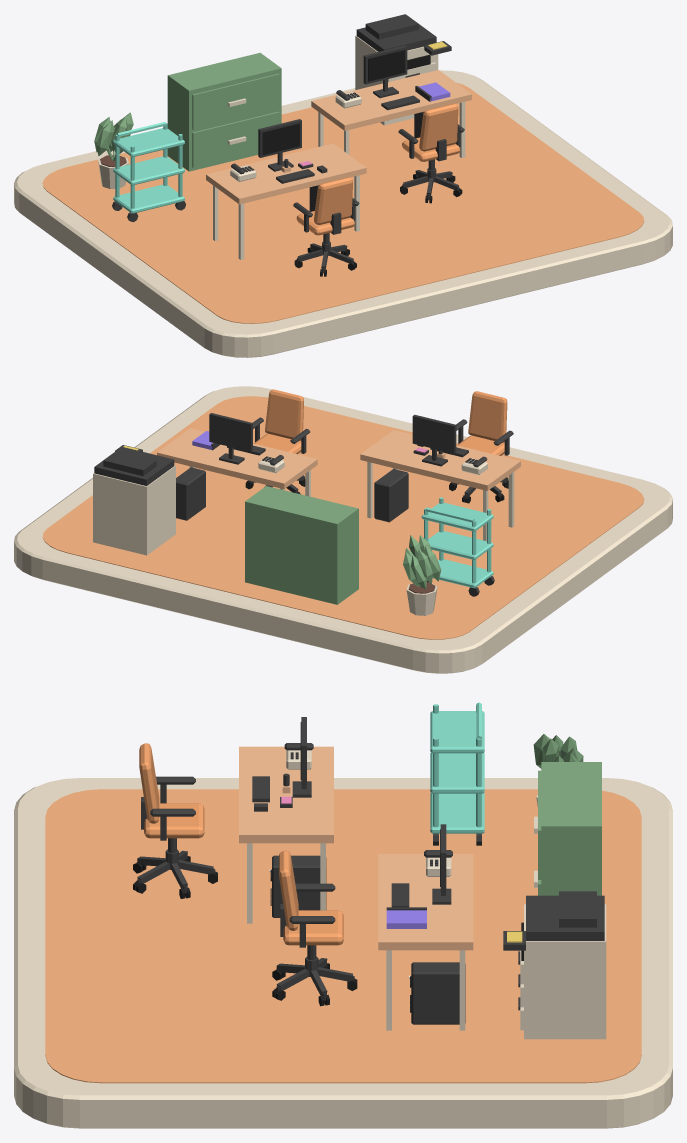
Rendered from room.fbx.
3 views of the same model, one above another, from view 1: azimuth 30°, elevation 25°; view 2: azimuth 150°, elevation 25°; view 3: azimuth 270°, elevation 25° (orthographic). The views are drawn at different scales.
Visible parts, largest first — view 1: COM-02 Floor Surface, COM-01 Rounded Base Direct, Cabinet, Top, Top.001, Body, COM-04_Chair_blender_direct.001, COM-04_Chair_blender_direct, Pot, Frame.001, Frame, Tray.002 (+2 smaller); view 2: COM-02 Floor Surface, COM-01 Rounded Base Direct, Cabinet, Body, Top, Top.001, COM-04_Chair_blender_direct, COM-04_Chair_blender_direct.001, Pot, Frame, Tower, Frame.001 (+4 smaller); view 3: COM-02 Floor Surface, COM-01 Rounded Base Direct, Body, Cabinet, Top, Top.001, COM-04_Chair_blender_direct.001, COM-04_Chair_blender_direct, Tower.001, Tray.002, Tray.001, Tray (+5 smaller).
Part boxes in pixels (x1,y1,x2,y2): COM-02 Floor Surface: [42, 83, 644, 323]; COM-01 Rounded Base Direct: [14, 70, 672, 357]; Cabinet: [167, 52, 281, 171]; Top: [206, 143, 366, 259]; Top.001: [311, 70, 471, 157]; Body: [355, 14, 451, 125]; COM-04_Chair_blender_direct.001: [398, 103, 464, 203]; COM-04_Chair_blender_direct: [293, 177, 359, 276]; Pot: [94, 112, 133, 188]; Frame.001: [363, 45, 407, 98]; Frame: [258, 119, 301, 171]; Tray.002: [113, 128, 184, 157]; COM-02 Floor Surface: [42, 396, 644, 639]; COM-01 Rounded Base Direct: [14, 386, 672, 673]; Cabinet: [245, 486, 358, 604]; Body: [93, 445, 175, 555]; Top: [360, 430, 520, 541]; Top.001: [157, 428, 317, 496]; COM-04_Chair_blender_direct: [449, 391, 513, 503]; COM-04_Chair_blender_direct.001: [245, 389, 310, 494]; Pot: [403, 535, 441, 615]; Frame: [412, 414, 456, 466]; Tower: [374, 469, 408, 522]; Frame.001: [209, 413, 252, 464]; COM-02 Floor Surface: [45, 789, 641, 1083]; COM-01 Rounded Base Direct: [14, 778, 672, 1128]; Body: [503, 891, 606, 1039]; Cabinet: [534, 762, 601, 895]; Top: [239, 746, 333, 923]; Top.001: [378, 854, 473, 1030]; COM-04_Chair_blender_direct.001: [272, 850, 357, 1006]; COM-04_Chair_blender_direct: [133, 743, 217, 898]; Tower.001: [411, 962, 465, 1024]; Tray.002: [430, 711, 484, 753]; Tray.001: [430, 752, 484, 793]; Tray: [430, 793, 484, 833].
Size of the model in its own units: 600 by 161 by 520.
